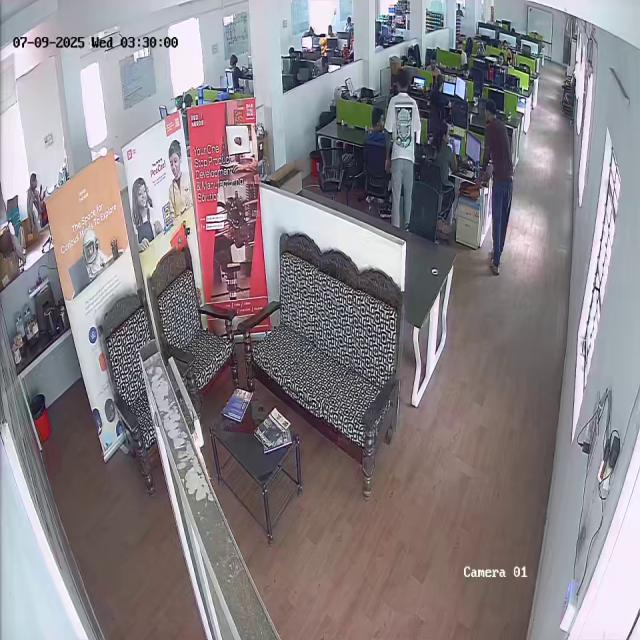person: (480, 99, 516, 276), (386, 70, 420, 231), (426, 121, 456, 237), (25, 172, 51, 225), (365, 107, 387, 158)
